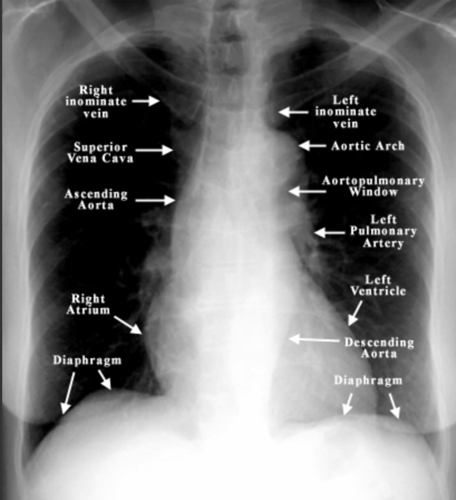telestration: (346, 213, 419, 250), (63, 84, 127, 122), (315, 93, 378, 129), (322, 176, 426, 197), (64, 139, 136, 163), (60, 188, 129, 210), (342, 339, 415, 359), (352, 275, 407, 297), (48, 354, 124, 367), (67, 293, 112, 314), (331, 139, 407, 151), (334, 373, 402, 386), (59, 371, 76, 417), (109, 313, 143, 335), (131, 194, 176, 208), (287, 333, 339, 344), (385, 392, 404, 419), (134, 144, 174, 156), (349, 296, 364, 327), (287, 185, 327, 196), (314, 226, 346, 239), (97, 366, 113, 390), (131, 94, 160, 106), (278, 106, 309, 117), (298, 139, 327, 150), (342, 391, 354, 416)
